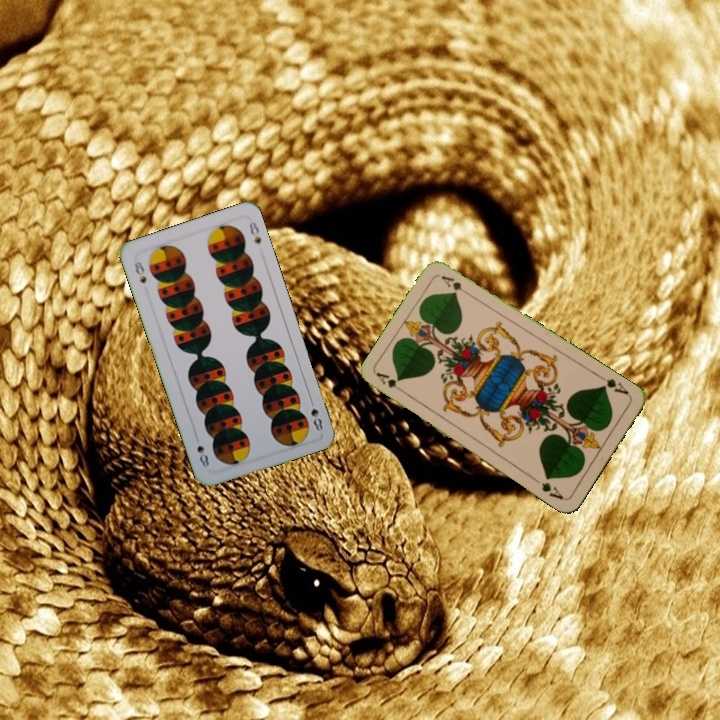GA: (373, 369, 409, 397), (595, 372, 631, 399)
S8: (306, 404, 326, 434), (130, 258, 149, 286)
